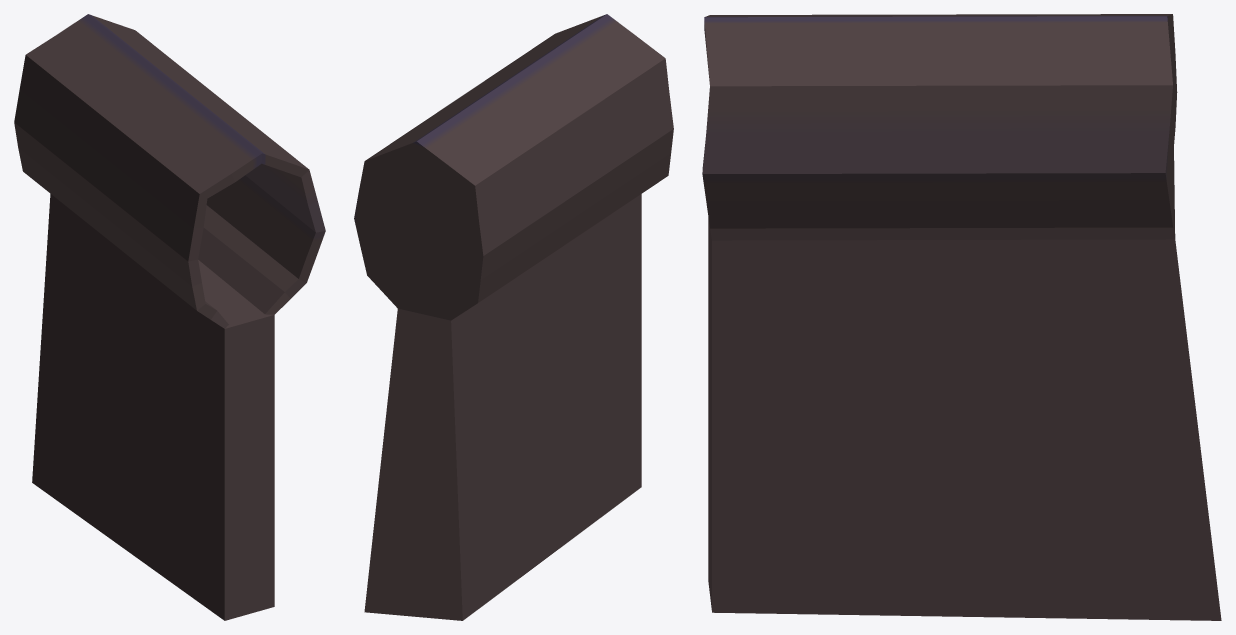
File: CaveEntrance.fbx
3 renders of one model, left to right at view 1: azimuth 30°, elevation 25°; view 2: azimuth 150°, elevation 25°; view 3: azimuth 270°, elevation 25°, orthographic. The views are drawn at different scales.
Visible parts, largest first — view 1: CaveEntrance; view 2: CaveEntrance; view 3: CaveEntrance.
Part boxes in pixels (<box>): CaveEntrance: <box>14,14,325,620</box>; CaveEntrance: <box>354,14,673,620</box>; CaveEntrance: <box>702,14,1221,620</box>.
Size of the model in its own units: 2793 by 8827 by 7010.
